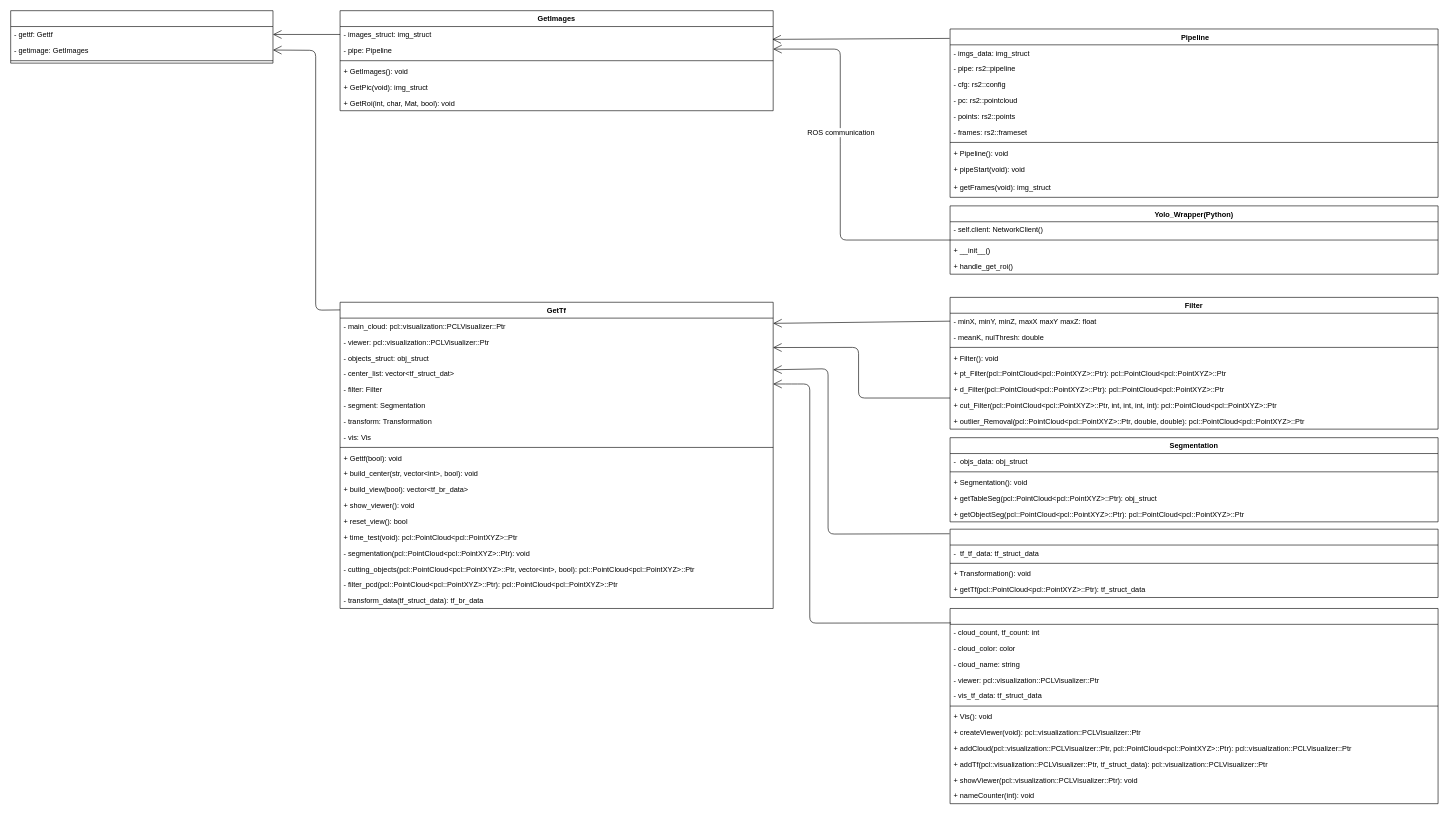
This 1449x816 diagram has some shape labels left out. The shapes that lost their labels are listed below. From the top down, each one's box as (x1, y1, x2, y2) in pixels, then its label:
(10, 10, 273, 63): Main
(949, 529, 1438, 597): Tf
(949, 608, 1438, 804): Visualtization
